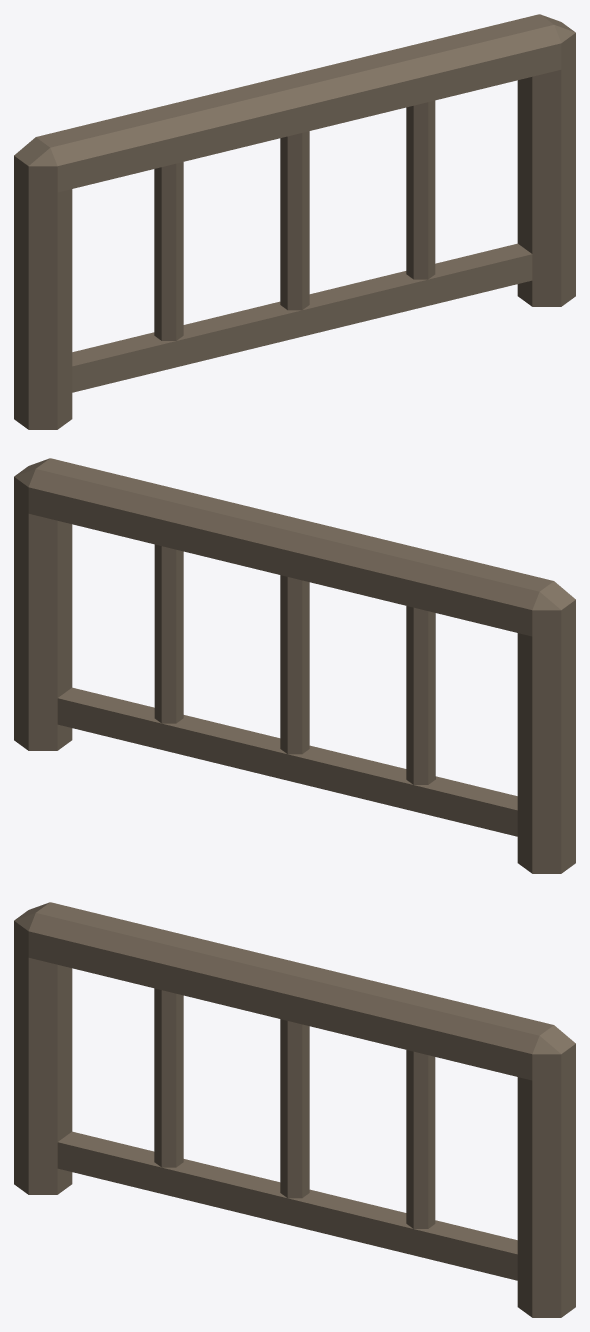
Rendered from steampunk_fence.fbx.
3 renders of one model, top to bottom at view 1: azimuth 30°, elevation 25°; view 2: azimuth 150°, elevation 25°; view 3: azimuth 330°, elevation 25°, orthographic.
Parts seen in each view (by area): view 1: Cylinder.001; view 2: Cylinder.001; view 3: Cylinder.001.
Part boxes in pixels (x1,y1,x2,y2): Cylinder.001: [14, 14, 575, 429]; Cylinder.001: [14, 458, 575, 873]; Cylinder.001: [14, 902, 575, 1317].
Size of the model in its own units: 2.17 by 1.05 by 0.2.
